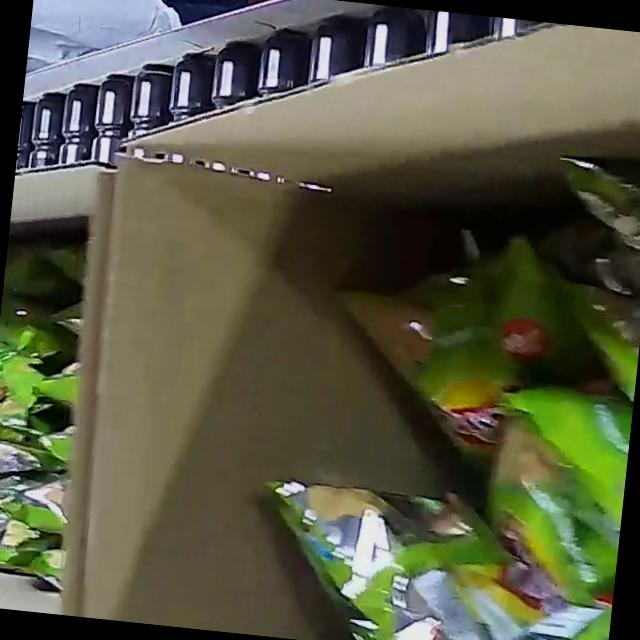yogurt: (247, 77, 640, 640), (0, 237, 103, 600)
